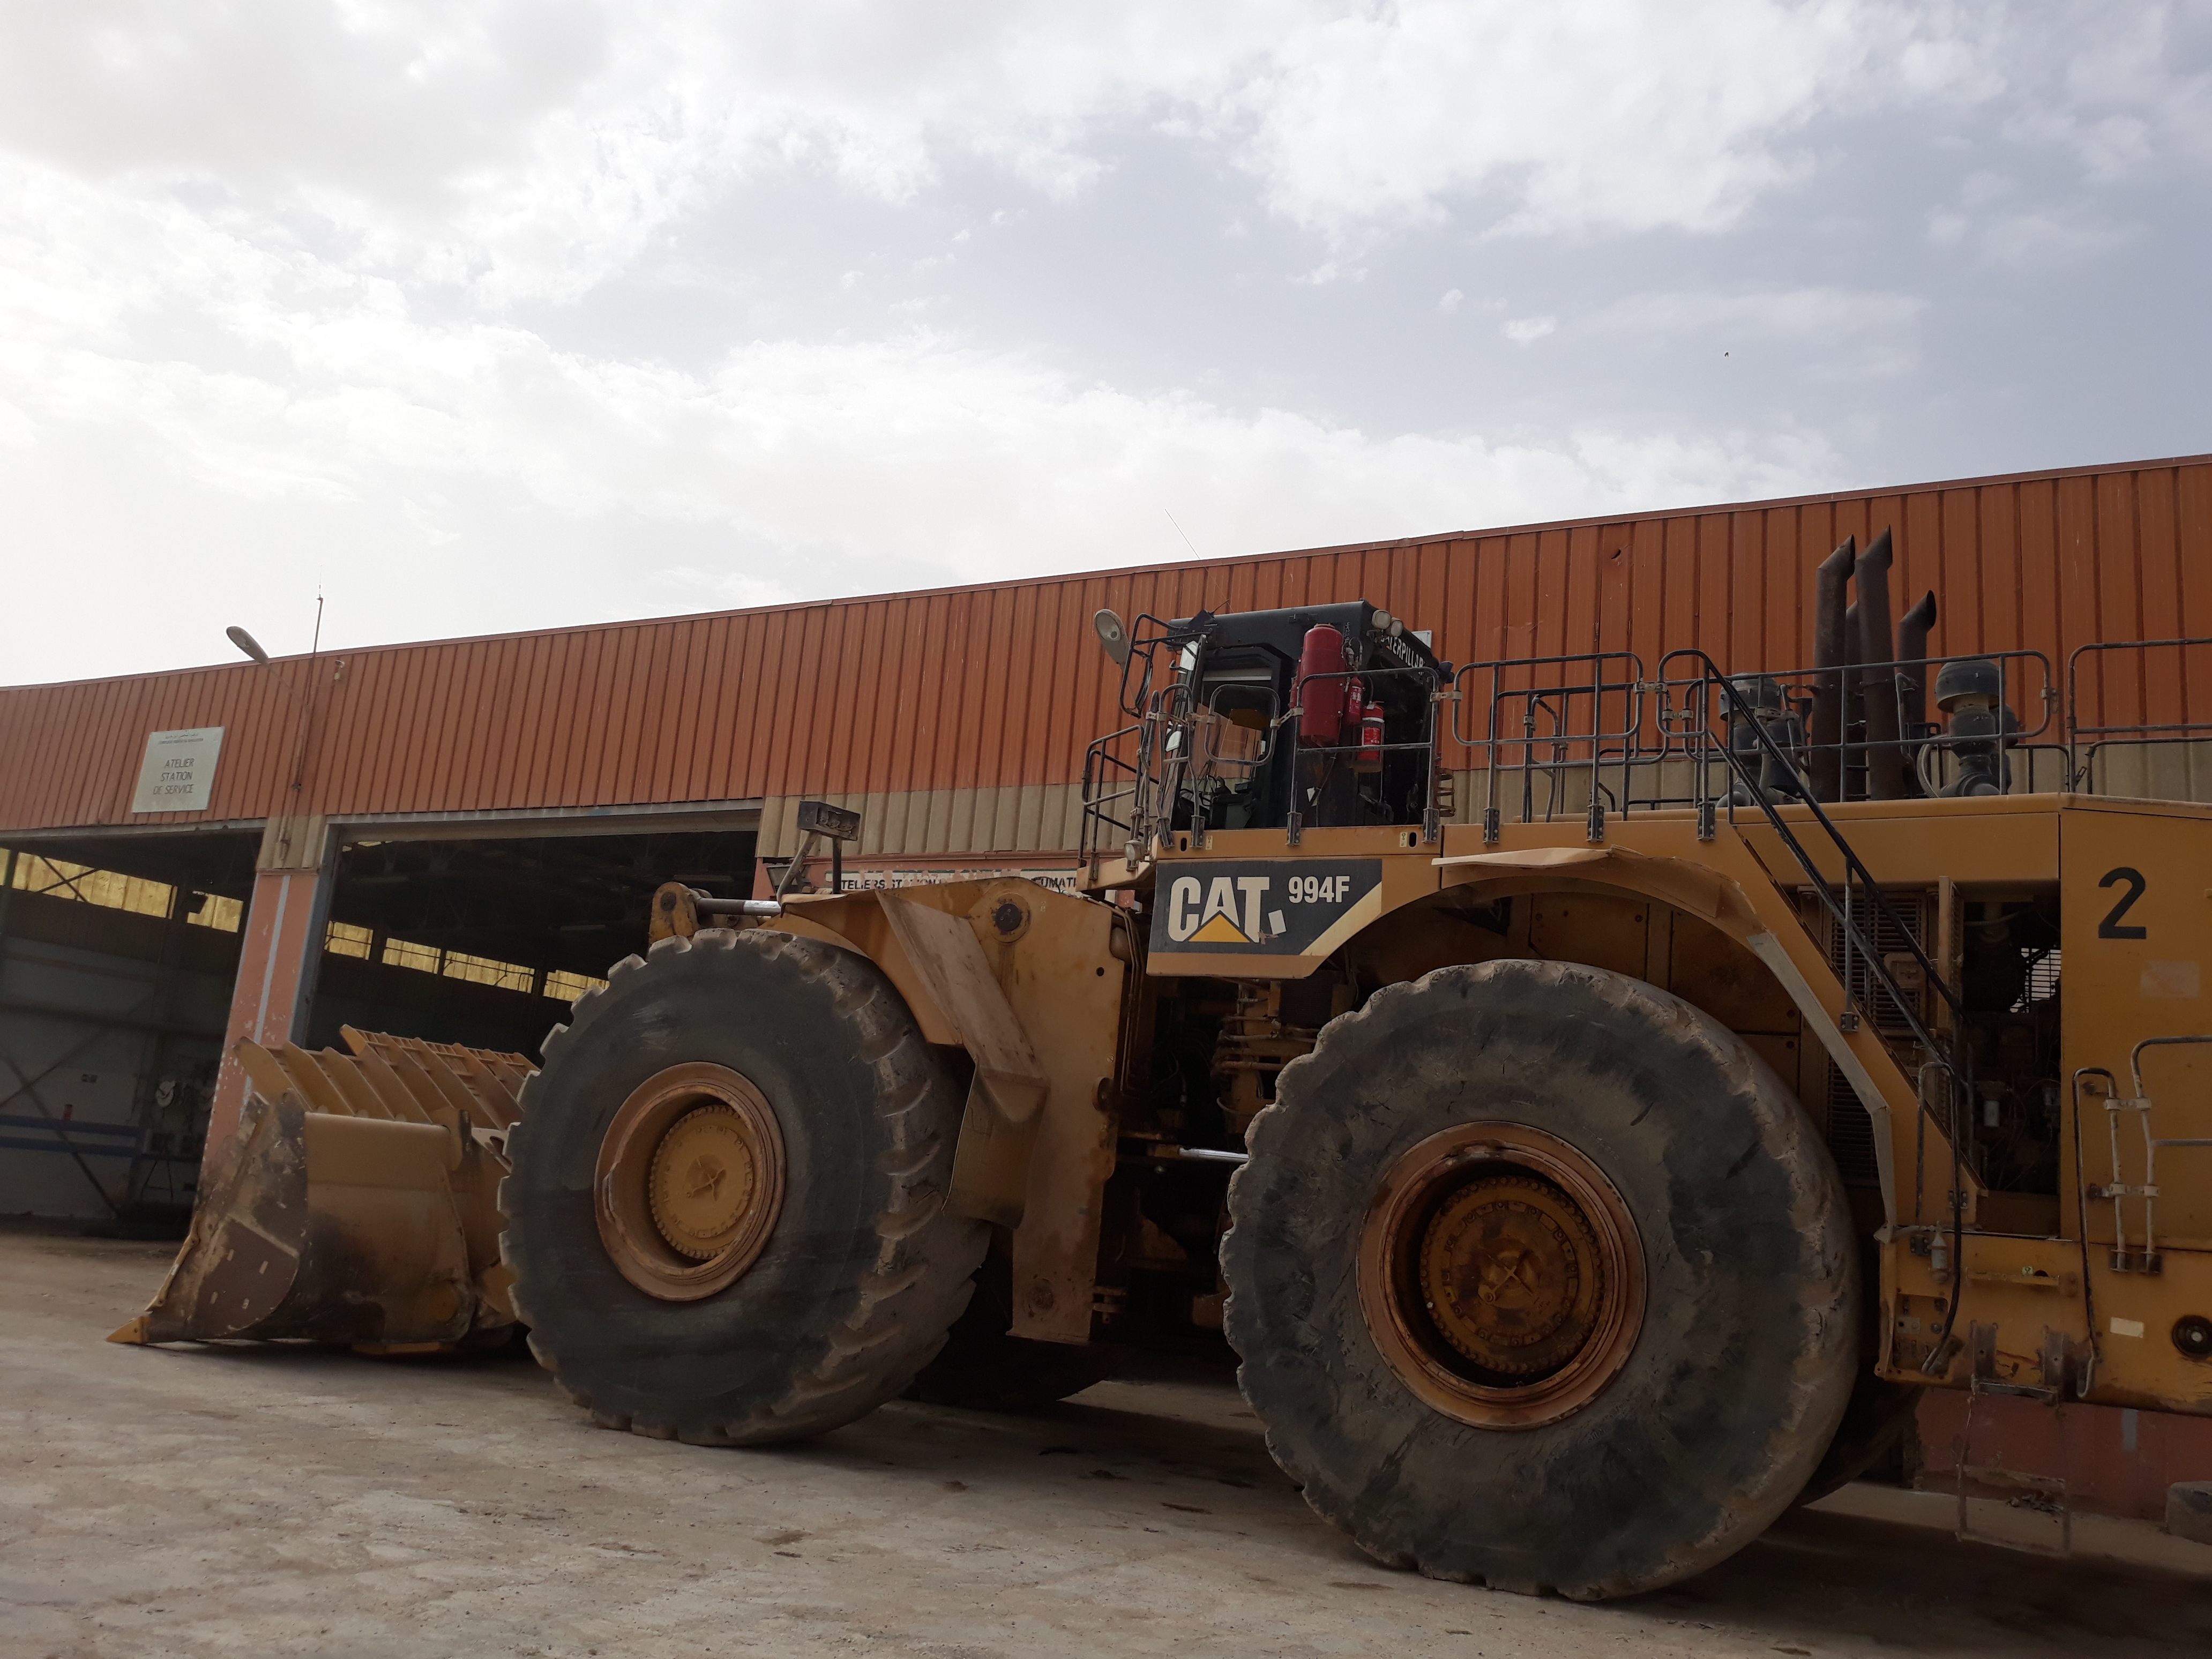chargeuse: (145, 538, 2212, 1619)
